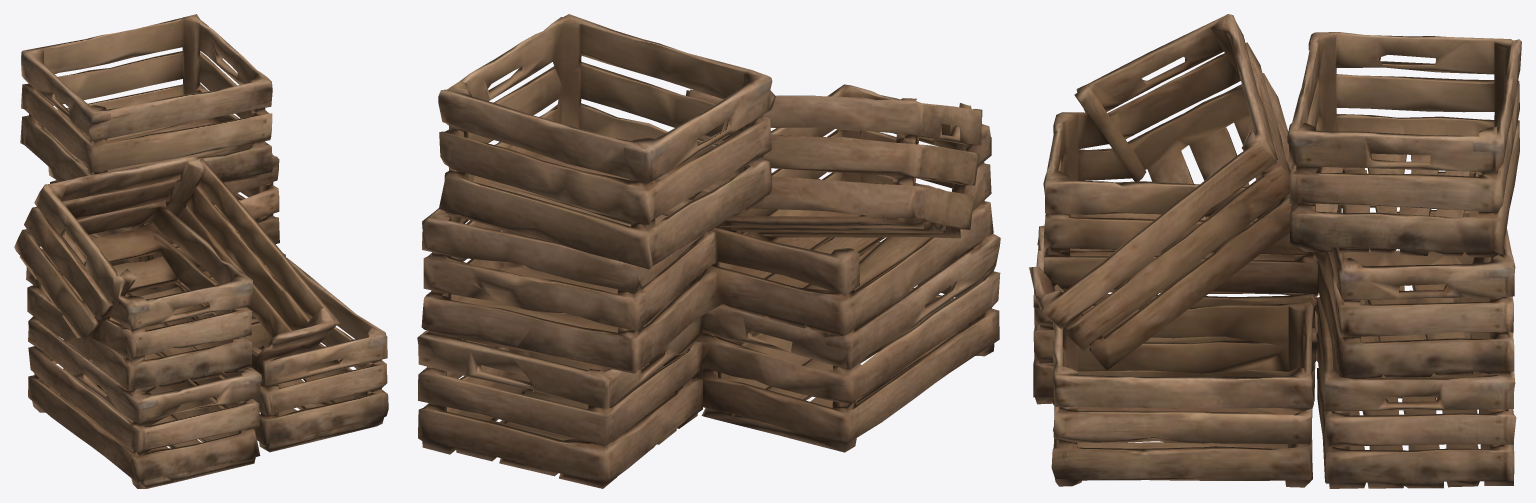
Rendered from crates_wood.glb.
3 renders of one model, left to right at view 1: azimuth 30°, elevation 25°; view 2: azimuth 150°, elevation 25°; view 3: azimuth 270°, elevation 25°, orthographic. The views are drawn at different scales.
Visible parts, largest first — view 1: tripo_node_ed7ba5aa-d978-4a08-8f2c-0b5a6ad38d85; view 2: tripo_node_ed7ba5aa-d978-4a08-8f2c-0b5a6ad38d85; view 3: tripo_node_ed7ba5aa-d978-4a08-8f2c-0b5a6ad38d85.
Part boxes in pixels (bbox=[...]): tripo_node_ed7ba5aa-d978-4a08-8f2c-0b5a6ad38d85: bbox=[14, 14, 388, 488]; tripo_node_ed7ba5aa-d978-4a08-8f2c-0b5a6ad38d85: bbox=[417, 14, 1000, 488]; tripo_node_ed7ba5aa-d978-4a08-8f2c-0b5a6ad38d85: bbox=[1029, 14, 1521, 488].
Bounding box in the file's own units: 0.8441 × 0.7757 × 1.
Materials: 1 (1 with a texture image).
